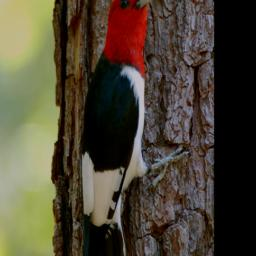Woodpecker: (79, 0, 190, 256)
